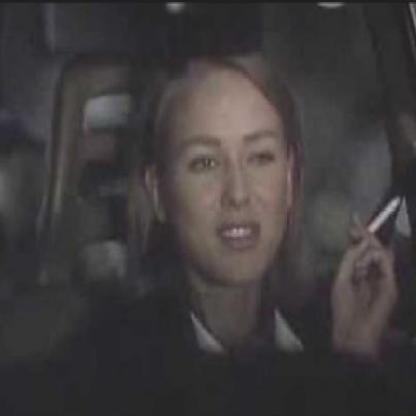cigarette: (363, 196, 403, 236)
person: (114, 53, 329, 360)
